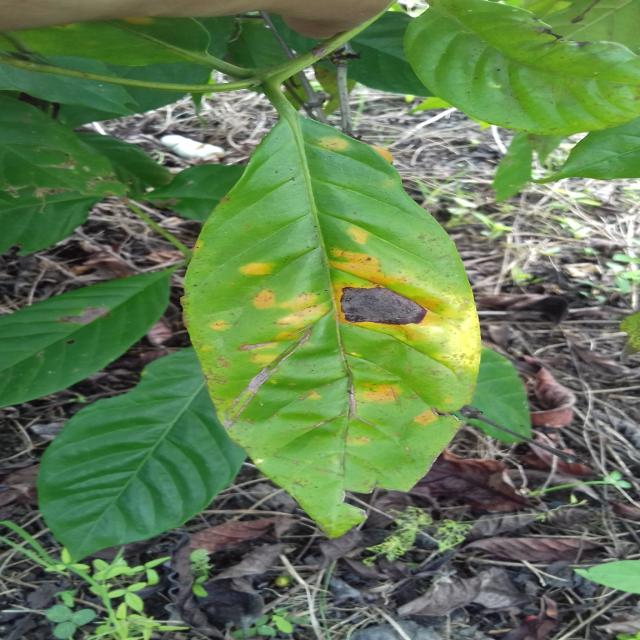Enfermedad-Roya: (184, 82, 533, 538)
